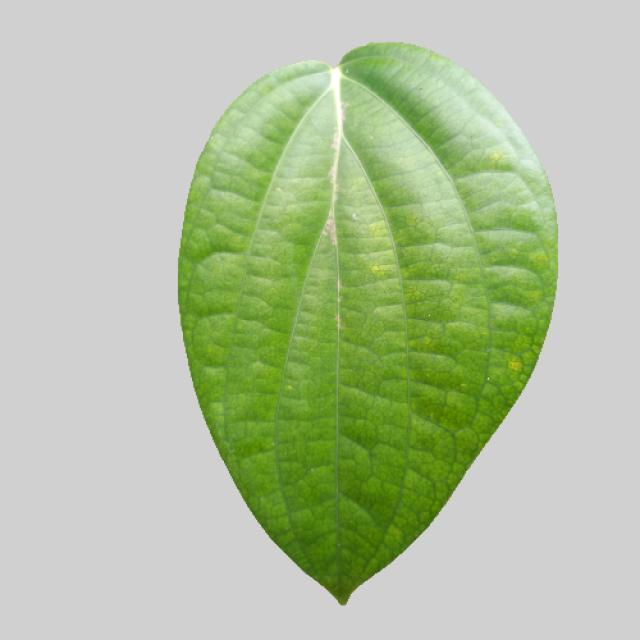healthy: (177, 41, 562, 612)
